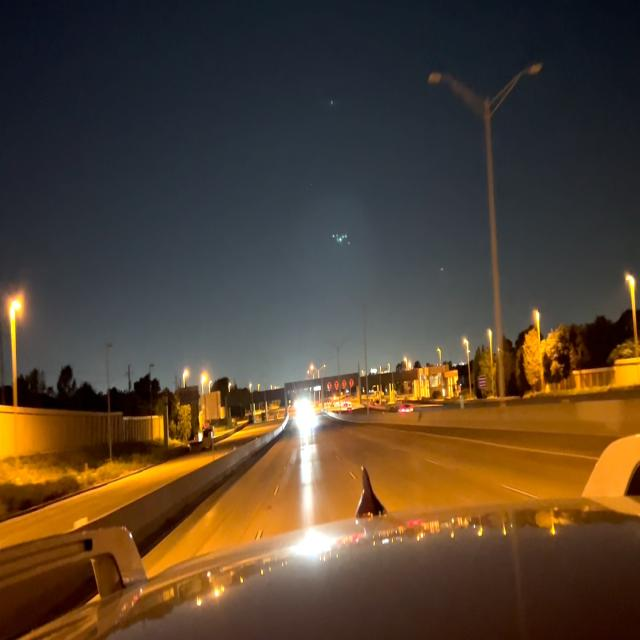back-of-sign: (202, 391, 221, 421)
